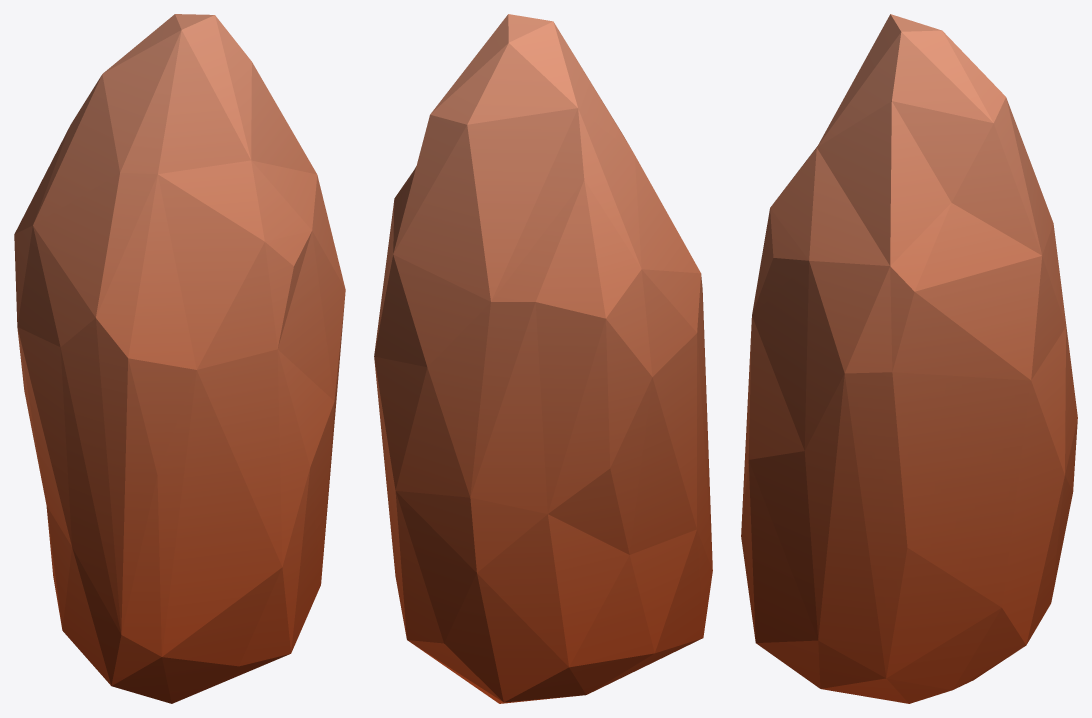
The model's file is Crystal_11.fbx.
3 renders of one model, left to right at view 1: azimuth 30°, elevation 25°; view 2: azimuth 150°, elevation 25°; view 3: azimuth 270°, elevation 25°, orthographic. The views are drawn at different scales.
Visible parts, largest first — view 1: Crystal_11; view 2: Crystal_11; view 3: Crystal_11.
Part boxes in pixels (bbox=[...]): Crystal_11: bbox=[14, 14, 345, 703]; Crystal_11: bbox=[374, 14, 712, 703]; Crystal_11: bbox=[741, 14, 1077, 703].
Bounding box in the file's own units: 1.21 × 2.67 × 1.23.
